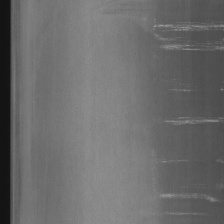waist_folding: (144, 12, 221, 215)
